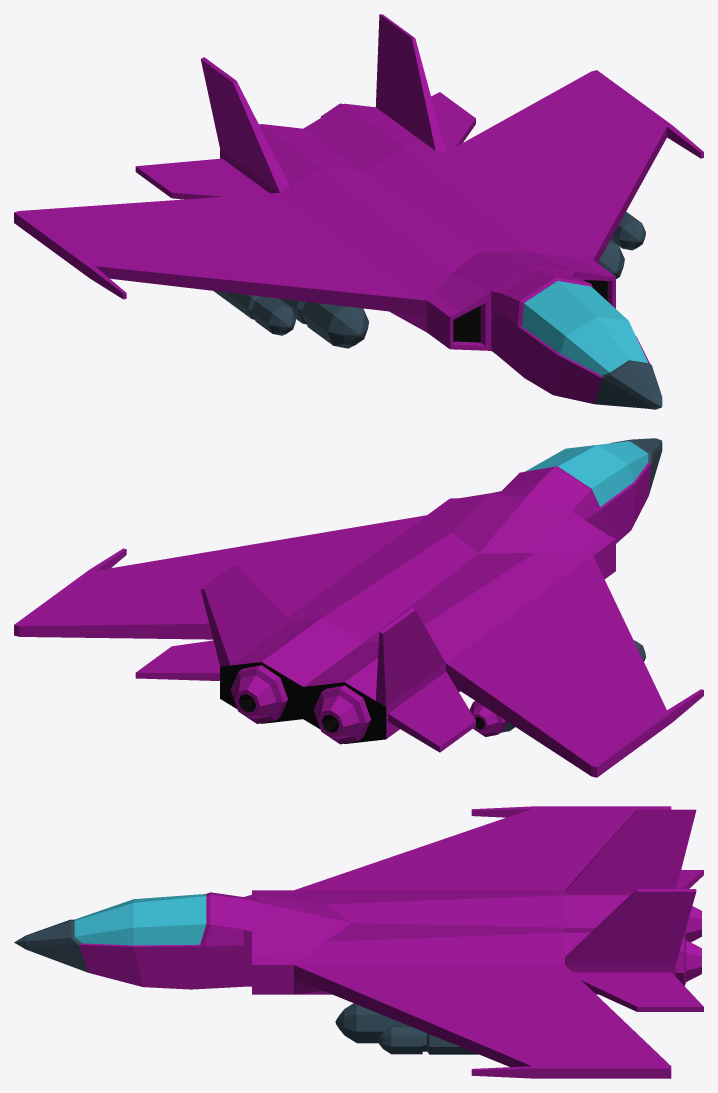
3 renders of one model, top to bottom at view 1: azimuth 30°, elevation 25°; view 2: azimuth 150°, elevation 25°; view 3: azimuth 270°, elevation 25°, orthographic. The views are drawn at different scales.
Visible parts, largest first — view 1: Jet_Cube_024; view 2: Jet_Cube_024; view 3: Jet_Cube_024.
Boxes of the visible parts, box(x1,y1,x2,y2) form: Jet_Cube_024: box(14, 14, 703, 409); Jet_Cube_024: box(14, 438, 703, 777); Jet_Cube_024: box(14, 806, 703, 1078).
Bounding box in the file's own units: 9.95 × 11.07 × 2.4.
